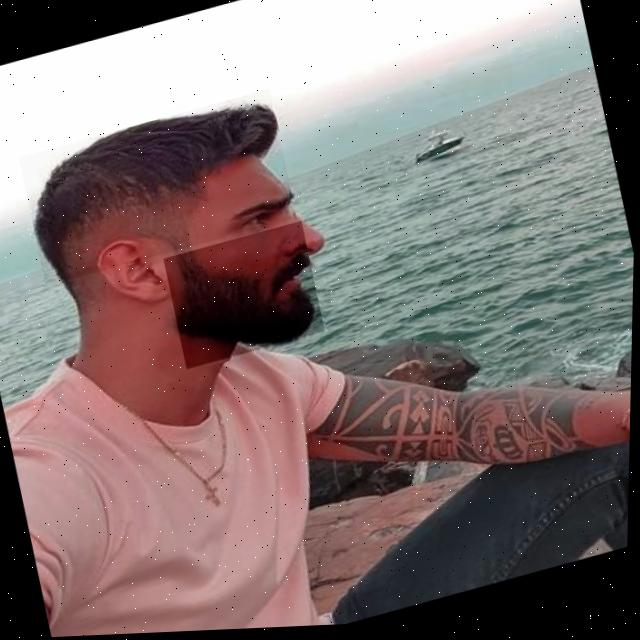beard: (178, 256, 317, 348)
hair: (35, 108, 279, 281)
